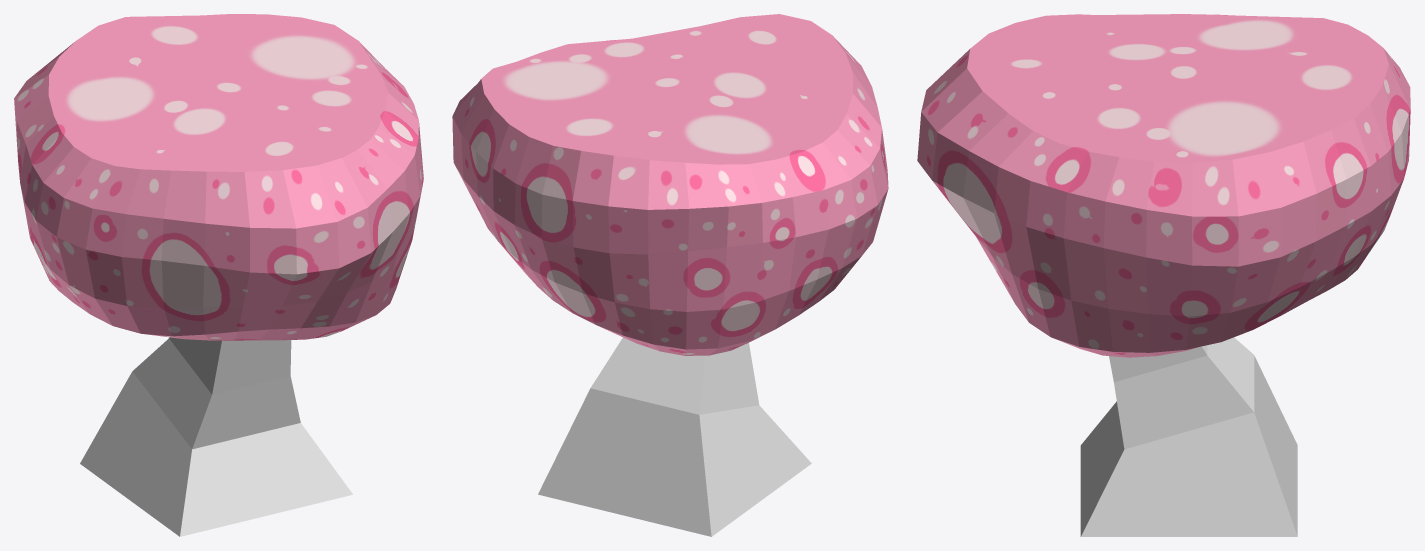
Rendered from coral_pink.glb.
3 renders of one model, left to right at view 1: azimuth 30°, elevation 25°; view 2: azimuth 150°, elevation 25°; view 3: azimuth 270°, elevation 25°, orthographic. The views are drawn at different scales.
Visible parts, largest first — view 1: Sphere, Cube; view 2: Sphere, Cube; view 3: Sphere, Cube.
Boxes of the visible parts, x1,y1,x2,y2 form: Sphere: (14, 14, 423, 340); Cube: (80, 337, 352, 536); Sphere: (452, 14, 888, 355); Cube: (538, 337, 811, 536); Sphere: (917, 14, 1410, 357); Cube: (1080, 337, 1297, 536).
Bounding box in the file's own units: 2.18 × 2.2 × 2.29.
Materials: 2 (1 with a texture image).
